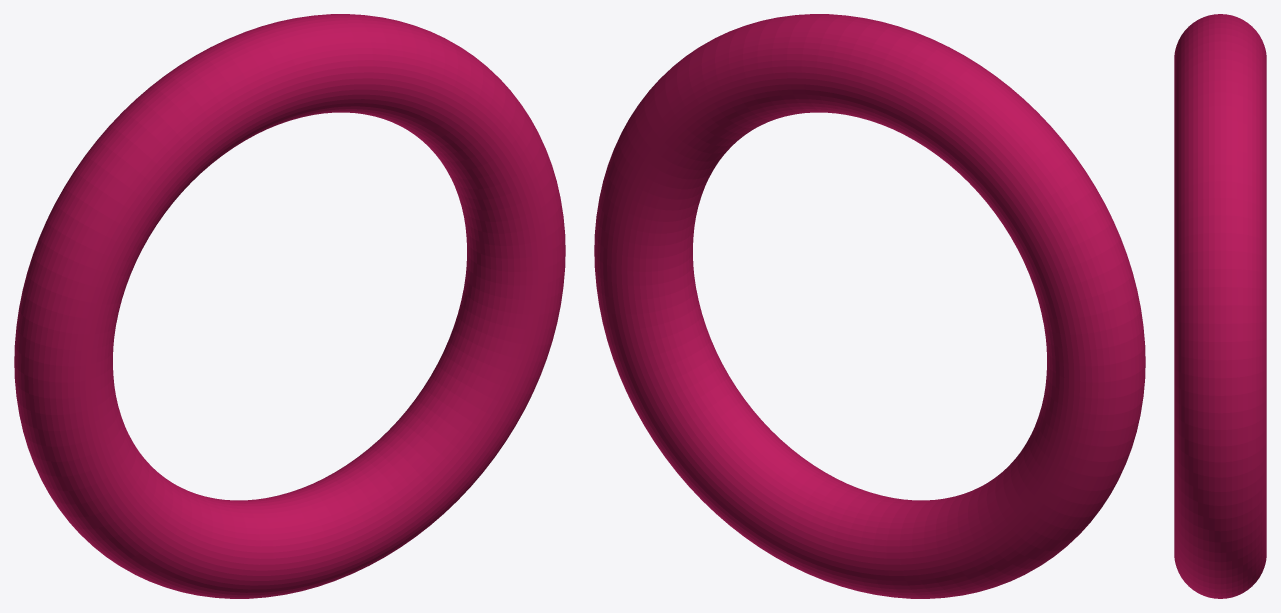
3 renders of one model, left to right at view 1: azimuth 30°, elevation 25°; view 2: azimuth 150°, elevation 25°; view 3: azimuth 270°, elevation 25°, orthographic. The views are drawn at different scales.
Visible parts, largest first — view 1: world; view 2: world; view 3: world.
Part boxes in pixels (x1,y1,x2,y2): world: (14,14,565,598); world: (594,14,1145,598); world: (1174,14,1266,598).
Size of the model in its own units: 27.73 by 27.73 by 4.39.
